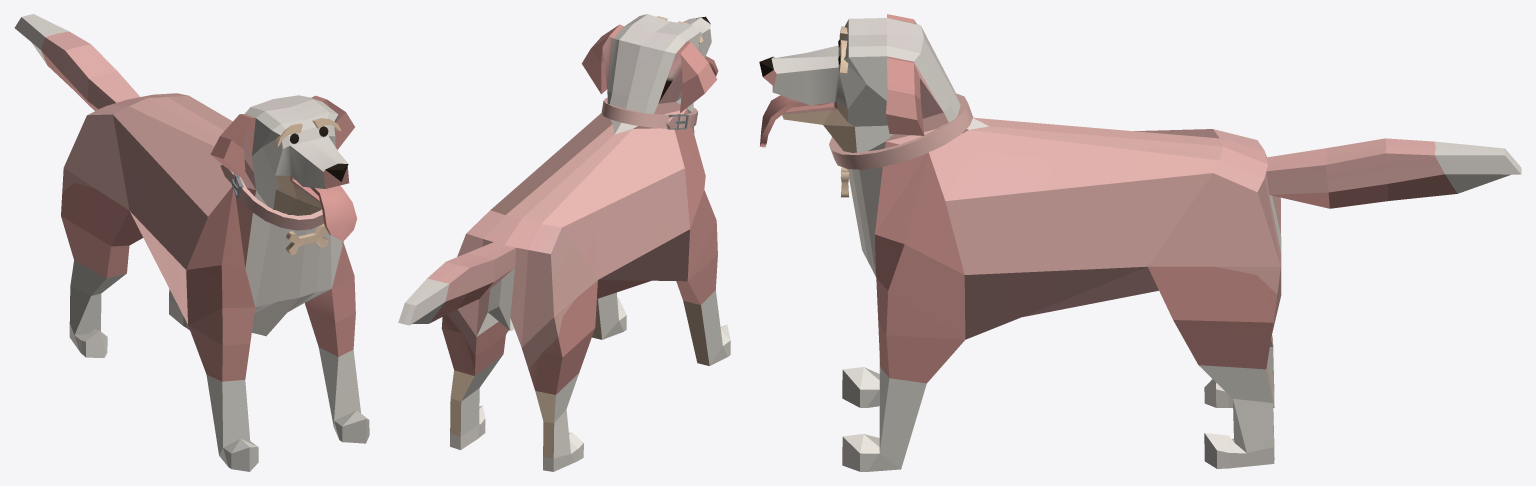
Rendered from 8xnrovrzfAe.glb.
3 renders of one model, left to right at view 1: azimuth 30°, elevation 25°; view 2: azimuth 150°, elevation 25°; view 3: azimuth 270°, elevation 25°, orthographic. The views are drawn at different scales.
Visible parts, largest first — view 1: Dog_w_Collar; view 2: Dog_w_Collar; view 3: Dog_w_Collar.
Boxes of the visible parts, x1,y1,x2,y2 form: Dog_w_Collar: (14,14,369,471); Dog_w_Collar: (398,14,730,471); Dog_w_Collar: (759,14,1521,471).
Bounding box in the file's own units: 0.4312 × 1 × 1.72.
Materials: 1 (1 with a texture image).
